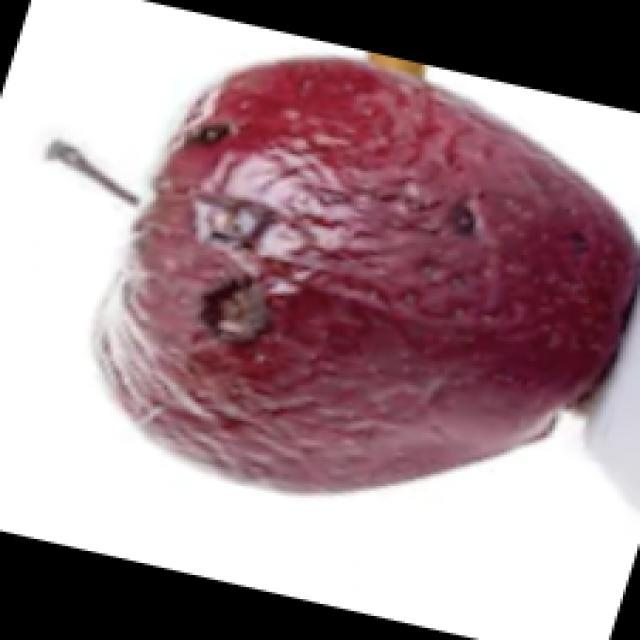Rotten: (95, 45, 637, 510)
